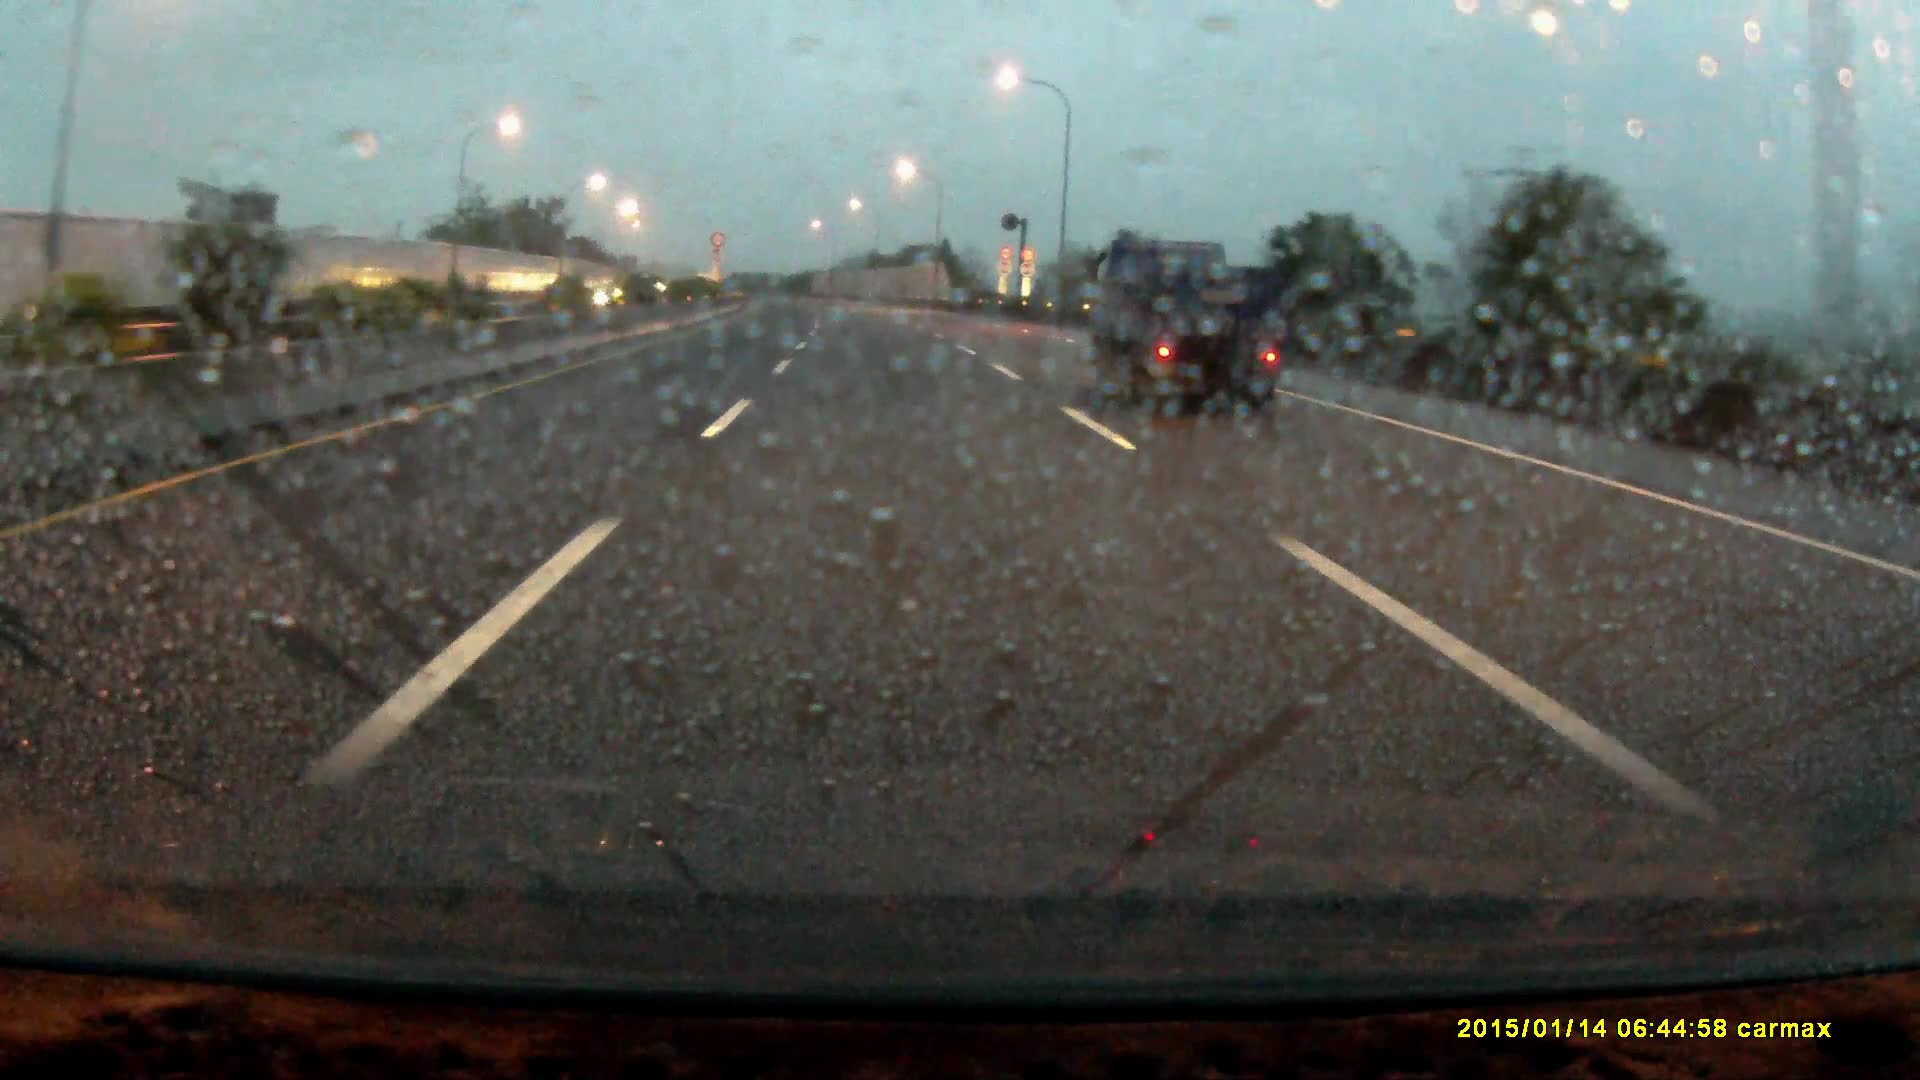vehicle: (1087, 243, 1284, 415)
